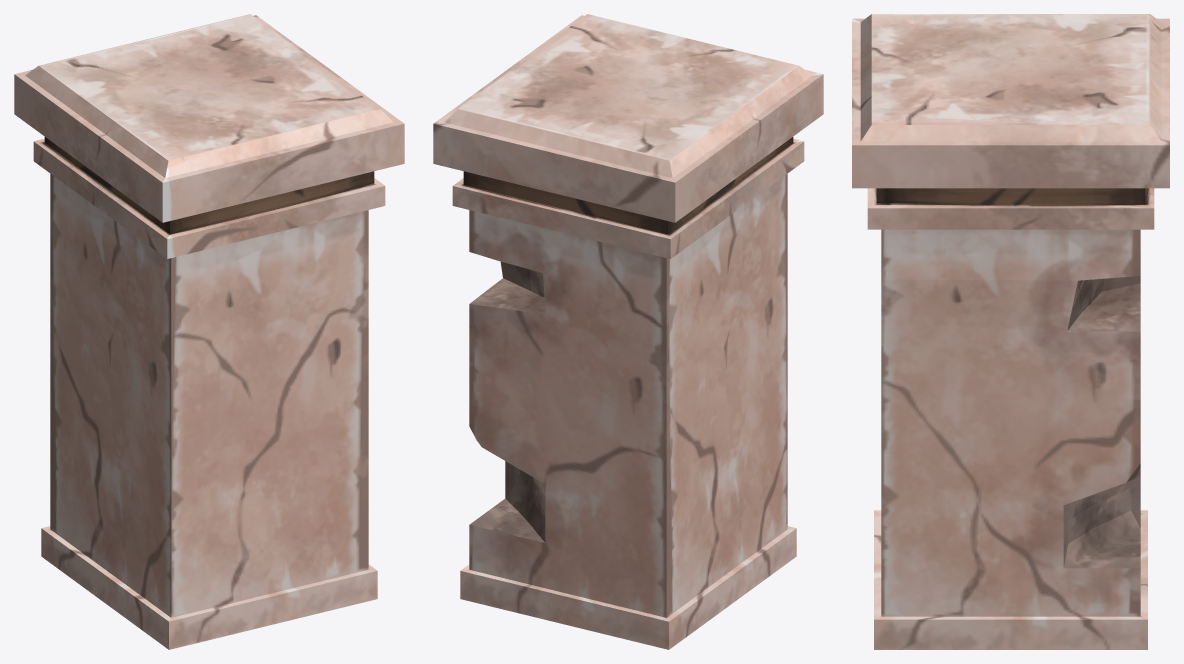
The model's file is Z1_Used_Tower_Low.FBX.
3 renders of one model, left to right at view 1: azimuth 30°, elevation 25°; view 2: azimuth 150°, elevation 25°; view 3: azimuth 270°, elevation 25°, orthographic. The views are drawn at different scales.
Visible parts, largest first — view 1: Z1_Used_Tower_Low; view 2: Z1_Used_Tower_Low; view 3: Z1_Used_Tower_Low.
Boxes of the visible parts, box(x1,y1,x2,y2) form: Z1_Used_Tower_Low: box(14, 14, 404, 649); Z1_Used_Tower_Low: box(433, 14, 823, 649); Z1_Used_Tower_Low: box(852, 14, 1169, 649).
Size of the model in its own units: 310 by 601 by 329.
